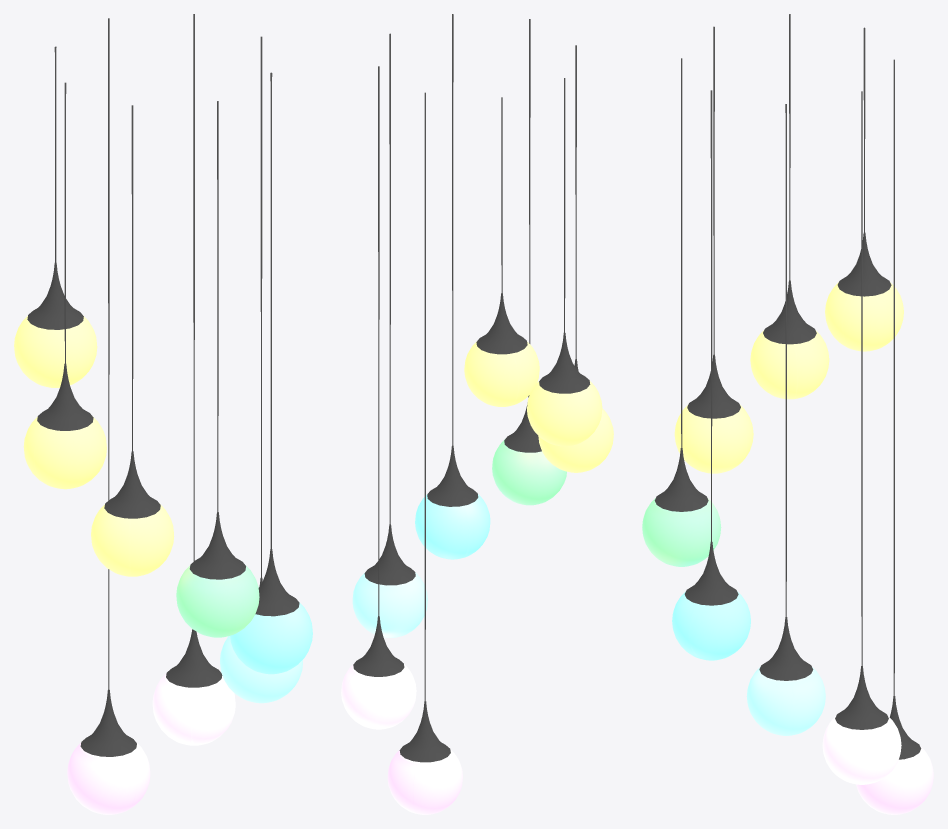
File: ceilinglamp8.glb
The picture shows the model from 3 angles, left to right: view 1: azimuth 30°, elevation 25°; view 2: azimuth 150°, elevation 25°; view 3: azimuth 270°, elevation 25°; orthographic projection. The views are drawn at different scales.
Visible parts, largest first — view 1: Sphere, Cone; view 2: Sphere, Cone; view 3: Sphere, Cone.
Part boxes in pixels (<box>): Sphere: <box>14,315,312,814</box>; Cone: <box>27,14,299,756</box>; Sphere: <box>341,341,613,814</box>; Cone: <box>353,14,590,762</box>; Sphere: <box>642,282,933,814</box>; Cone: <box>654,14,921,759</box>.
Size of the model in its own units: 5.84 by 16.58 by 5.84.
Materials: 2 (2 with a texture image).
